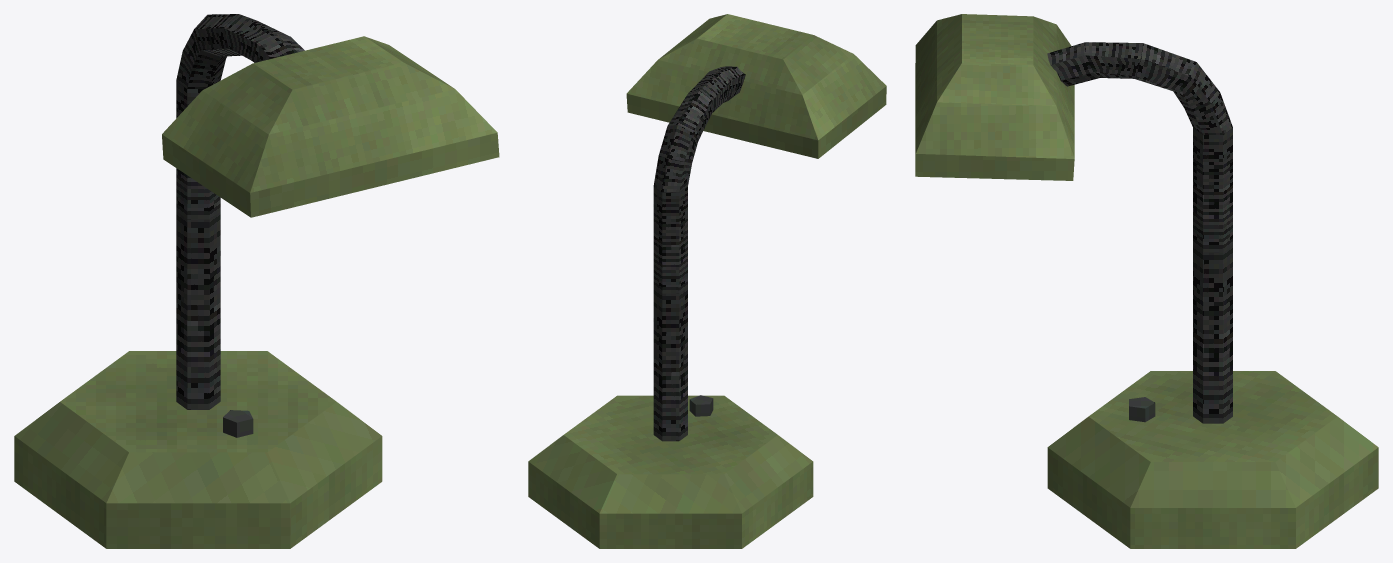
File: square_desklamp_alt.fbx
3 renders of one model, left to right at view 1: azimuth 30°, elevation 25°; view 2: azimuth 150°, elevation 25°; view 3: azimuth 270°, elevation 25°, orthographic. The views are drawn at different scales.
Visible parts, largest first — view 1: square_desklamp_alt; view 2: square_desklamp_alt; view 3: square_desklamp_alt.
Boxes of the visible parts, box(x1,y1,x2,y2) form: square_desklamp_alt: box(14, 14, 499, 548); square_desklamp_alt: box(528, 14, 886, 548); square_desklamp_alt: box(915, 14, 1378, 548).
Bounding box in the file's own units: 19.83 × 34.69 × 32.05.
